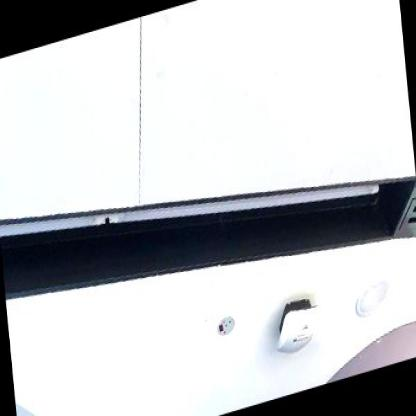light_off: (0, 43, 390, 329)
